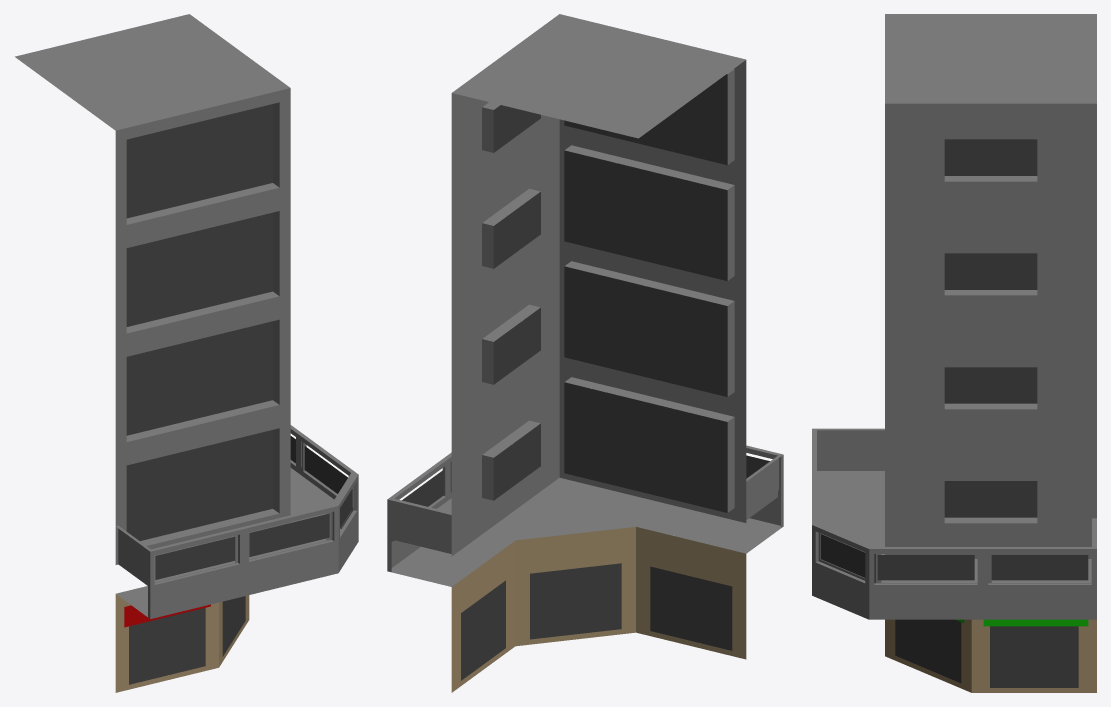
The model's file is edificio 1.fbx.
3 renders of one model, left to right at view 1: azimuth 30°, elevation 25°; view 2: azimuth 150°, elevation 25°; view 3: azimuth 270°, elevation 25°, orthographic. The views are drawn at different scales.
Visible parts, largest first — view 1: EdificioAlto, Base, Cartel_001; view 2: EdificioAlto, Base; view 3: EdificioAlto, Base, Cartel_002.
Part boxes in pixels (x1,y1,x2,y2): EdificioAlto: (15,14,290,564); Base: (115,425,358,692); Cartel_001: (124,604,210,627); EdificioAlto: (451,14,746,556); Base: (387,445,783,692); EdificioAlto: (885,14,1096,558); Base: (812,428,1096,692); Cartel_002: (983,619,1088,626).
Bounding box in the file's own units: 336 × 767 × 336.
